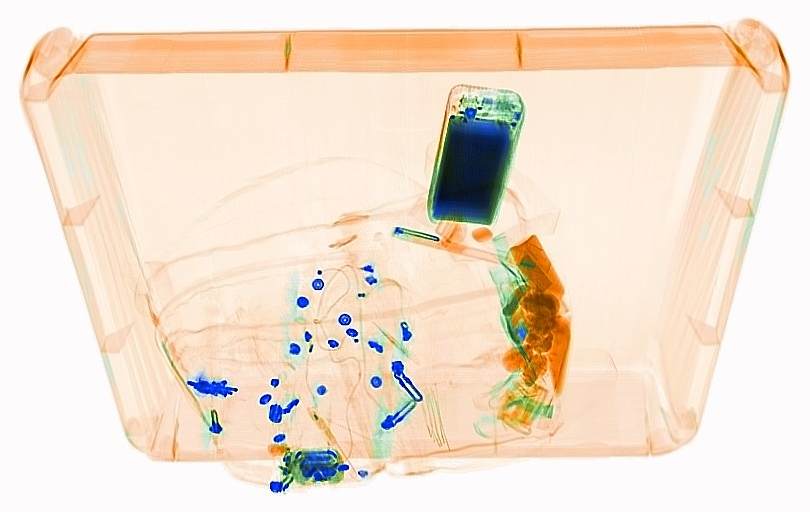PortableBattery: (421, 78, 530, 231)
